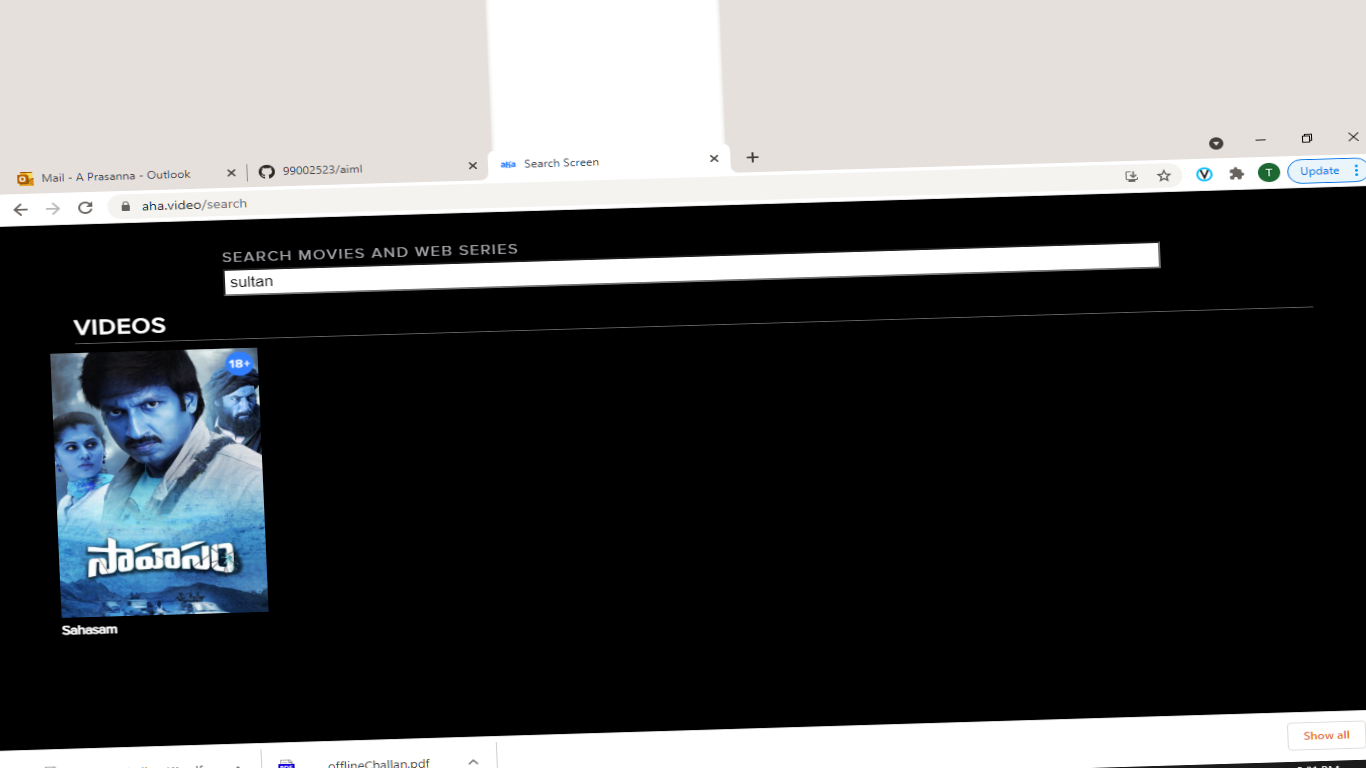resultsfound: (72, 305, 425, 349)
searchtextbox: (201, 233, 1164, 308)
